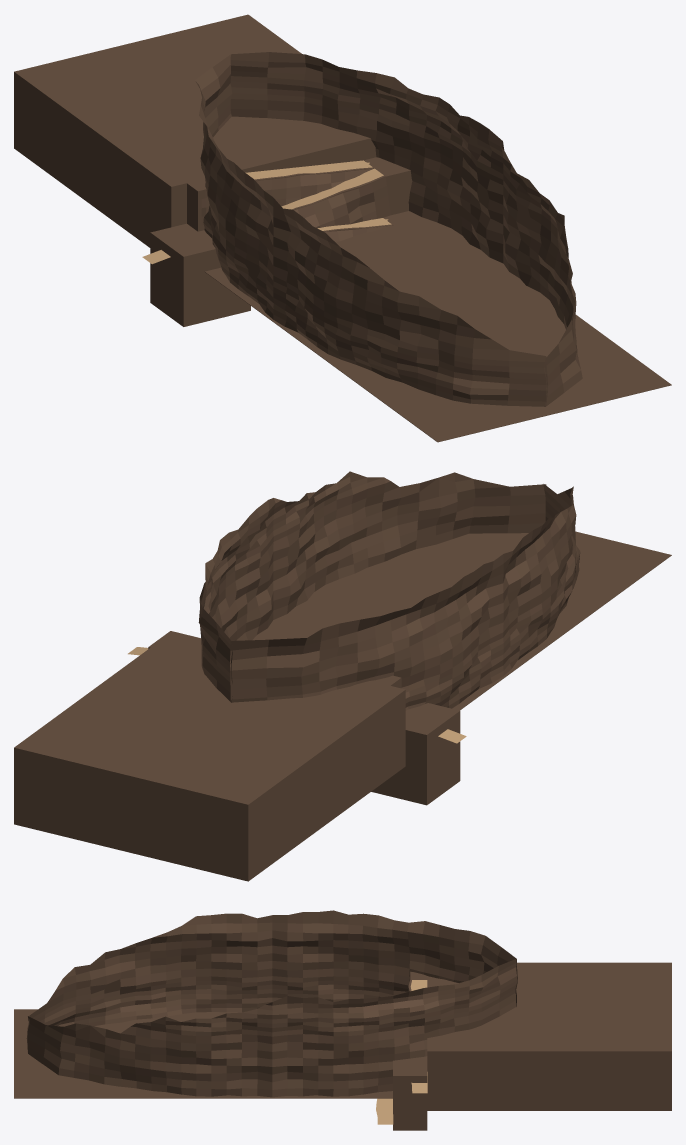
File: Environment_Ground_2.fbx
3 views of the same model, one above another, from view 1: azimuth 30°, elevation 25°; view 2: azimuth 150°, elevation 25°; view 3: azimuth 270°, elevation 25° (orthographic). The views are drawn at different scales.
Parts seen in each view (by area): view 1: Cube.003, Cube.001, Cube.015, Cube.002, Cube.019, Cube.013, Cube.008, Cube.018, Cube.007, Cube.009, Cube.017, Cube.004 (+11 smaller); view 2: Cube.003, Cube.001, Cube.000, Cube.005, Cube.016, Cube.013, Cube.022, Cube.004, Cube.023, Cube.006, Cube.020, Cube.007 (+6 smaller); view 3: Cube.003, Cube.007, Cube.017, Cube.008, Cube.001, Cube.018, Cube.004, Cube.020, Cube.005, Cube.023, Cube.019, Cube.022 (+9 smaller).
Part boxes in pixels (x1,y1,x2,y2): Cube.003: (14,14,376,247); Cube.001: (114,205,671,442); Cube.015: (436,310,547,406); Cube.002: (230,52,339,128); Cube.019: (365,269,441,395); Cube.013: (150,223,250,326); Cube.008: (406,88,463,234); Cube.018: (312,226,371,370); Cube.007: (457,115,503,263); Cube.009: (337,67,411,169); Cube.017: (273,198,320,346); Cube.004: (234,163,273,319); Cube.003: (14,632,405,881); Cube.001: (252,531,671,792); Cube.000: (230,623,339,702); Cube.005: (406,577,463,709); Cube.016: (436,472,546,544); Cube.013: (371,703,460,805); Cube.022: (365,477,441,567); Cube.004: (456,554,503,703); Cube.023: (313,471,368,591); Cube.006: (335,608,411,710); Cube.020: (273,492,316,619); Cube.007: (235,498,275,640); Cube.003: (427,962,671,1110); Cube.007: (272,996,333,1097); Cube.017: (211,913,272,1012); Cube.008: (333,996,394,1096); Cube.001: (14,1009,516,1098); Cube.018: (150,915,211,1018); Cube.004: (272,910,333,1001); Cube.020: (211,1002,272,1097); Cube.005: (333,910,394,1002); Cube.023: (150,1016,211,1096); Cube.019: (89,938,152,1026); Cube.022: (89,1022,151,1090).
Bounding box in the file's own units: 16589 × 8900 × 38200.
